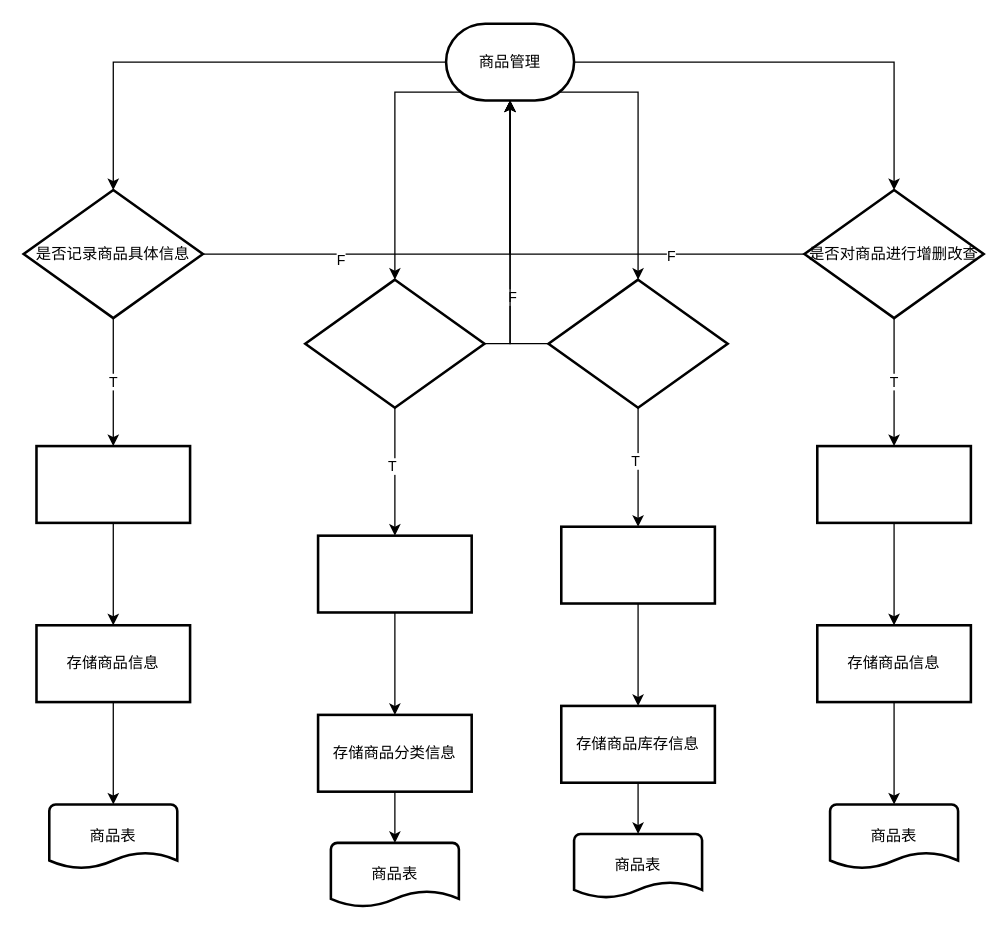
This 1006x929 diagram has some shape labels left out. The shapes that lost their labels are listed below. From the top down, each one's centre as x and y in pixels, then its label:
At point (394, 343): "是否进行商品分类管理".
At point (637, 343): "是否进行库存管理".
At point (113, 484): "输入商品信息".
At point (893, 484): "对商品进行增加，删除，修改，查询".
At point (394, 573): "输入商品分类 信息".
At point (637, 564): "输入商品库存信息".
